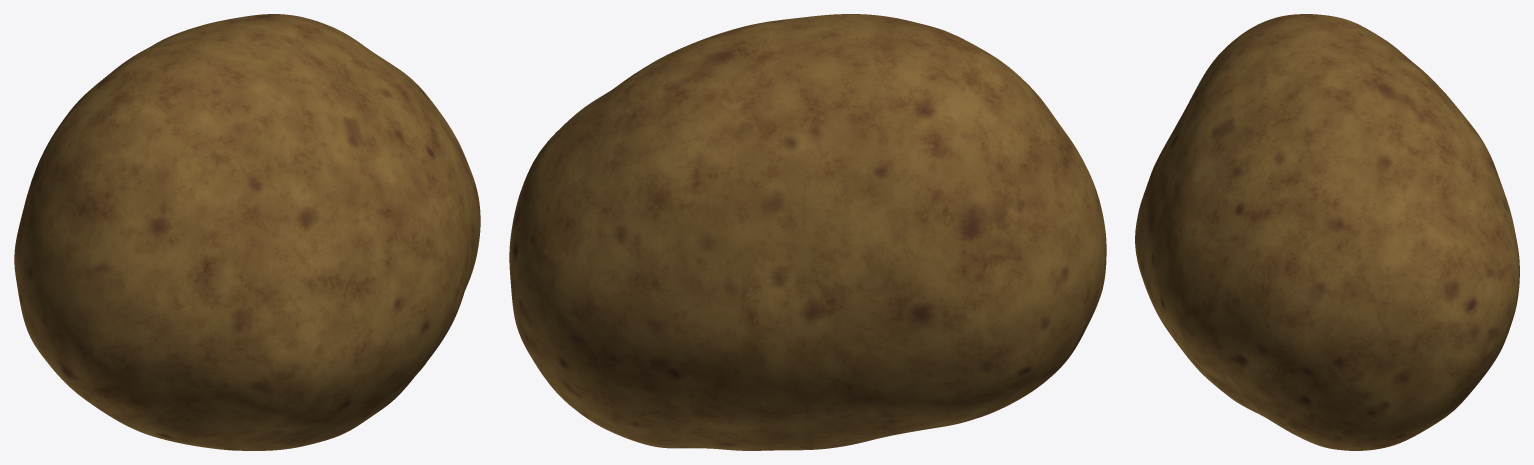
The picture shows the model from 3 angles, left to right: view 1: azimuth 30°, elevation 25°; view 2: azimuth 150°, elevation 25°; view 3: azimuth 270°, elevation 25°; orthographic projection. The views are drawn at different scales.
Visible parts, largest first — view 1: original_ico.018; view 2: original_ico.018; view 3: original_ico.018.
Boxes of the visible parts, x1,y1,x2,y2 form: original_ico.018: (14, 14, 480, 450); original_ico.018: (509, 14, 1106, 450); original_ico.018: (1135, 14, 1519, 450).
Size of the model in its own units: 3.84 by 3.13 by 3.18.
1 material, 1 textured.
